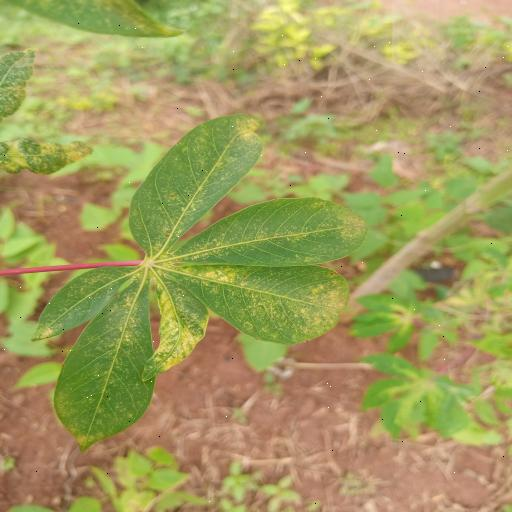Cassava_Mosaic: (35, 112, 359, 444)
